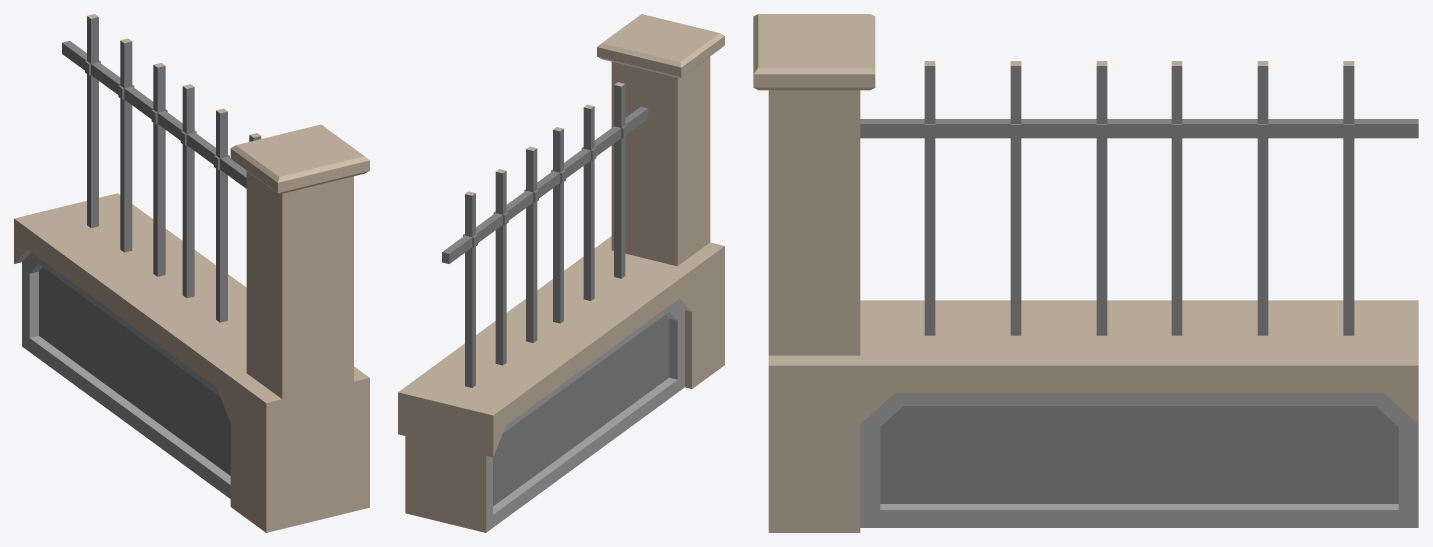
The model's file is Stone Fence 2.fbx.
The picture shows the model from 3 angles, left to right: view 1: azimuth 30°, elevation 25°; view 2: azimuth 150°, elevation 25°; view 3: azimuth 270°, elevation 25°; orthographic projection. The views are drawn at different scales.
Parts seen in each view (by area): view 1: Stone Fence 2; view 2: Stone Fence 2; view 3: Stone Fence 2.
Part boxes in pixels (x1,y1,x2,y2): Stone Fence 2: (14, 14, 369, 532); Stone Fence 2: (398, 14, 724, 532); Stone Fence 2: (753, 14, 1418, 532).
Size of the model in its own units: 0.6895 by 2.97 by 2.27.
